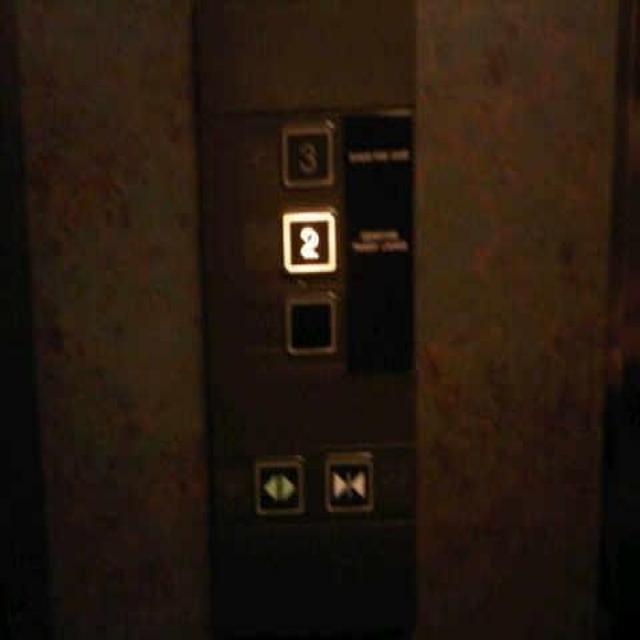2: (279, 204, 335, 275)
3: (278, 117, 334, 188)
close: (320, 449, 373, 514)
empty: (282, 289, 337, 359)
open: (250, 453, 305, 520)
